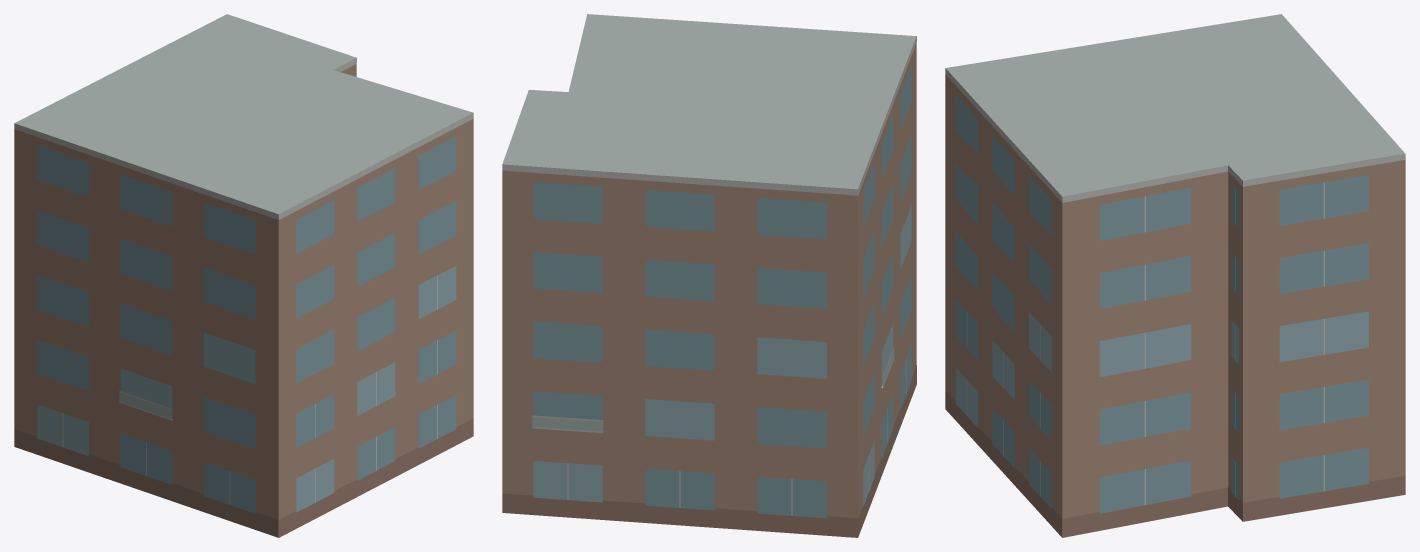
File: survey-upis-32846446.glb
3 views of the same model, side by side, from view 1: azimuth 30°, elevation 25°; view 2: azimuth 150°, elevation 25°; view 3: azimuth 270°, elevation 25° (orthographic). The views are drawn at different scales.
Visible parts, largest first — view 1: survey-upis-32846446.tmp; view 2: survey-upis-32846446.tmp; view 3: survey-upis-32846446.tmp.
Part boxes in pixels (left/top/right/bottom): survey-upis-32846446.tmp: left=14, top=14, right=473, bottom=537; survey-upis-32846446.tmp: left=502, top=14, right=916, bottom=537; survey-upis-32846446.tmp: left=945, top=14, right=1405, bottom=537.
Bounding box in the file's own units: 15.59 × 13.55 × 16.58.
